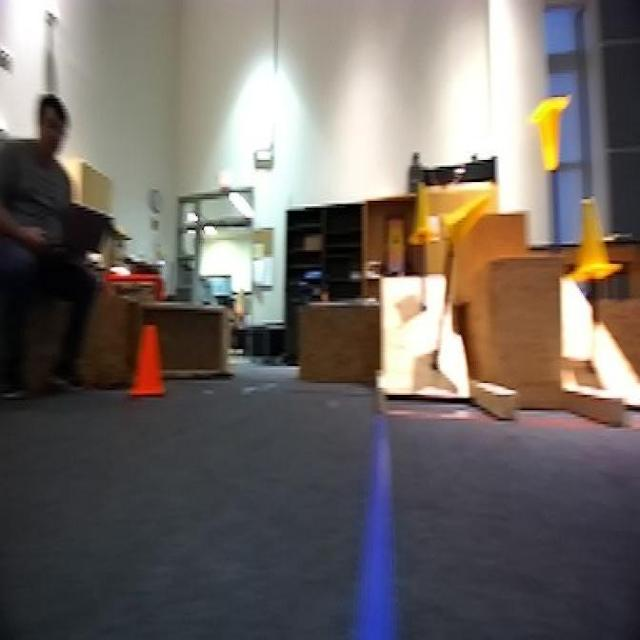frc_cone: (569, 189, 622, 284), (530, 96, 570, 176), (444, 187, 495, 245), (409, 181, 439, 245)
